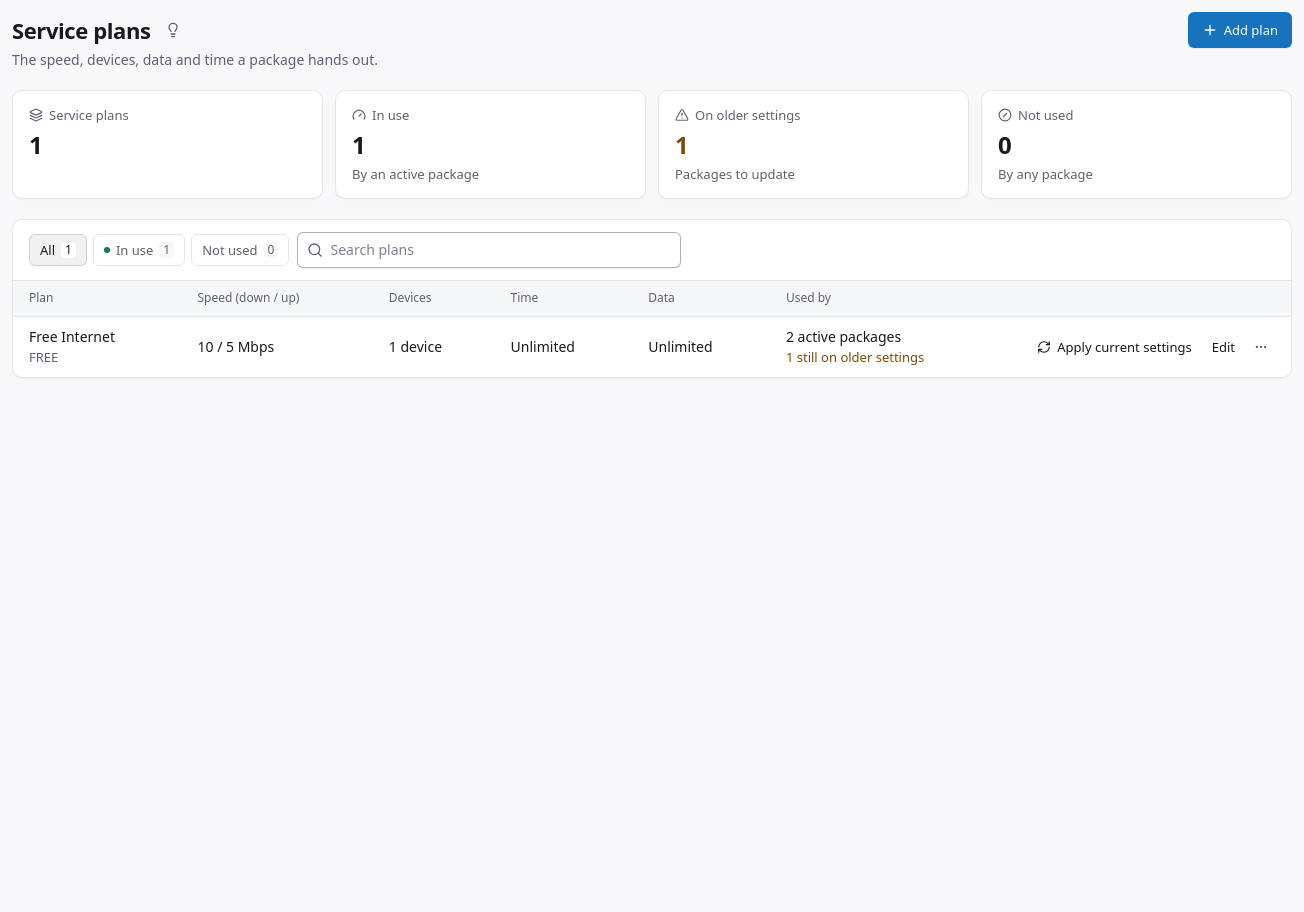
Test: ServicePlansPage — stale package pin › does not post a package whose stored price cannot be read in full, and names it
Click the button with test id "apply-current-FREE". click: (1114, 347)
box: x1=1029 y1=333 x2=1200 y2=361
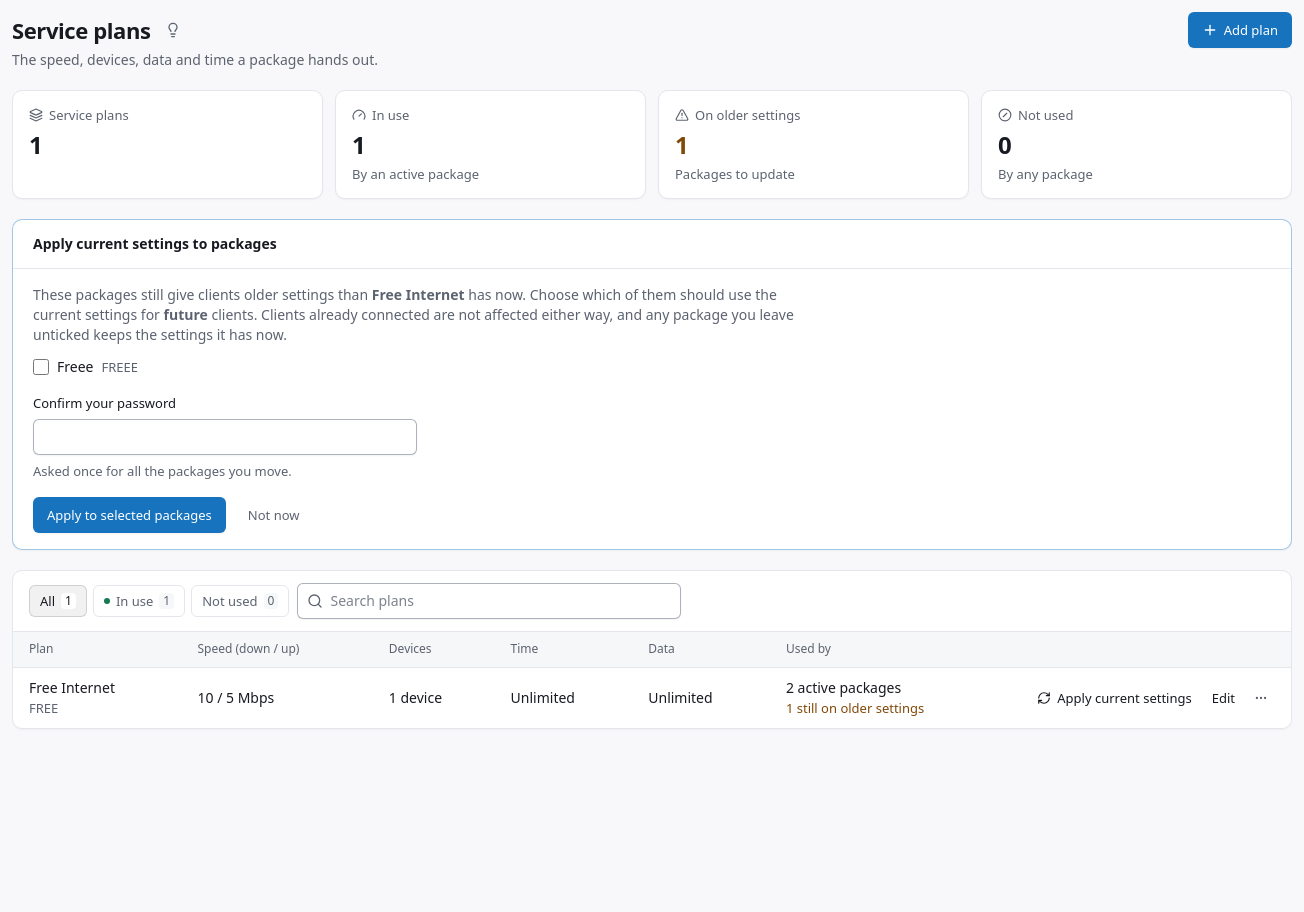
Click the checkbox named "repin-FREEE". click: (41, 367)
box: x1=33 y1=359 x2=49 y2=375
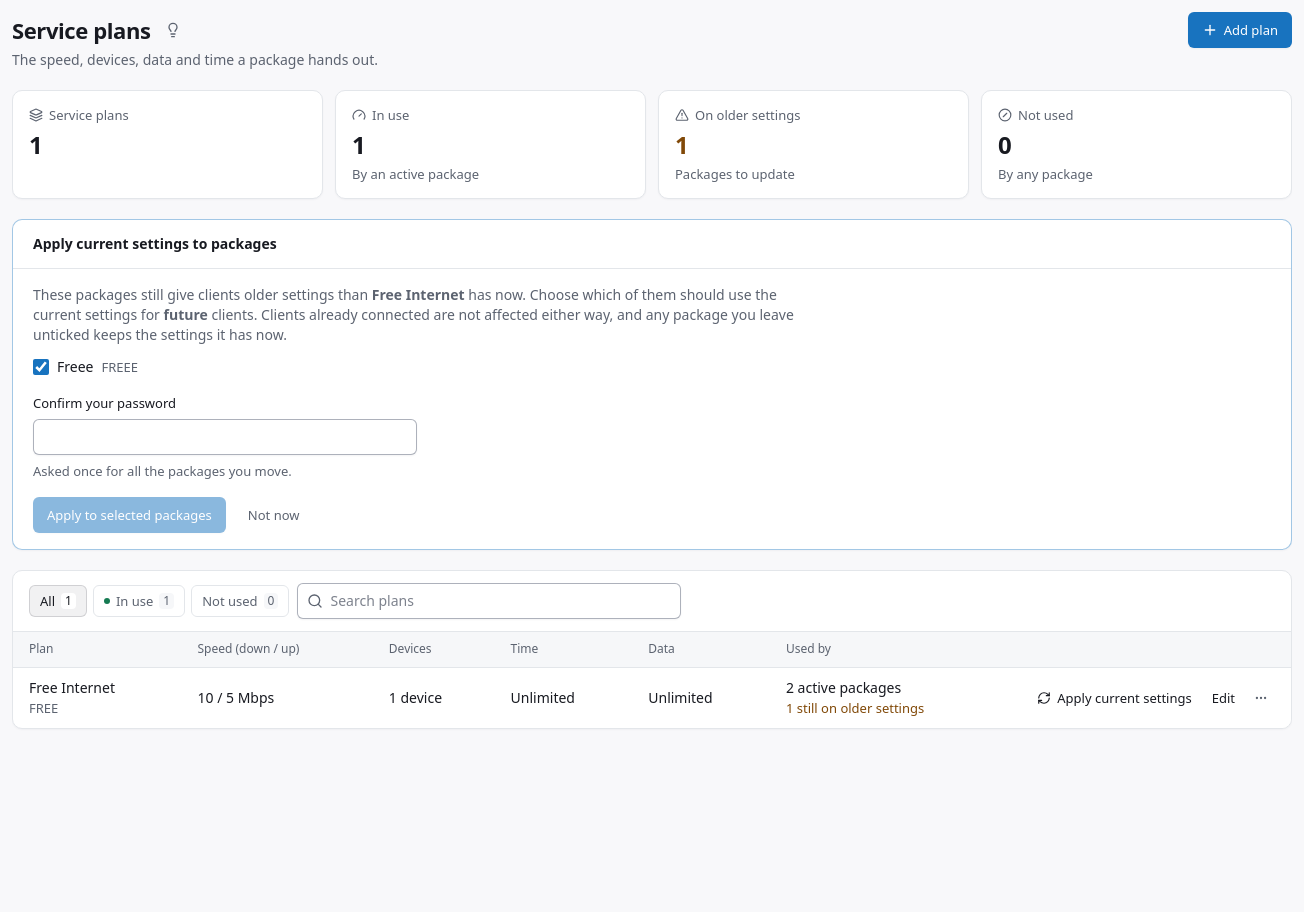
Type "pw-op" into the password field labelled "Confirm your password". click: (225, 437)
box: x1=33 y1=419 x2=417 y2=455
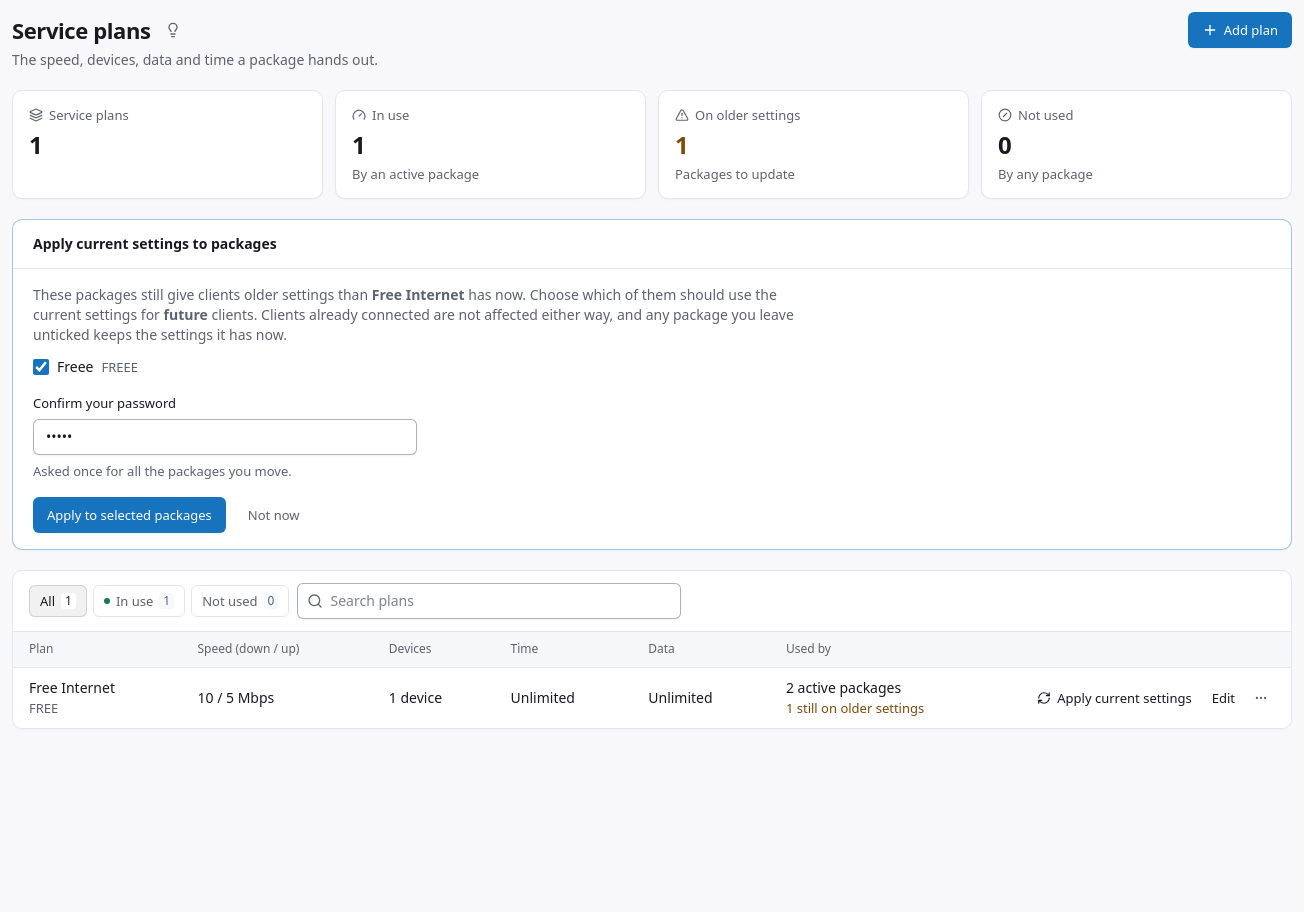
Click the button "Apply to selected packages". click: (129, 515)
box: x1=33 y1=497 x2=226 y2=533
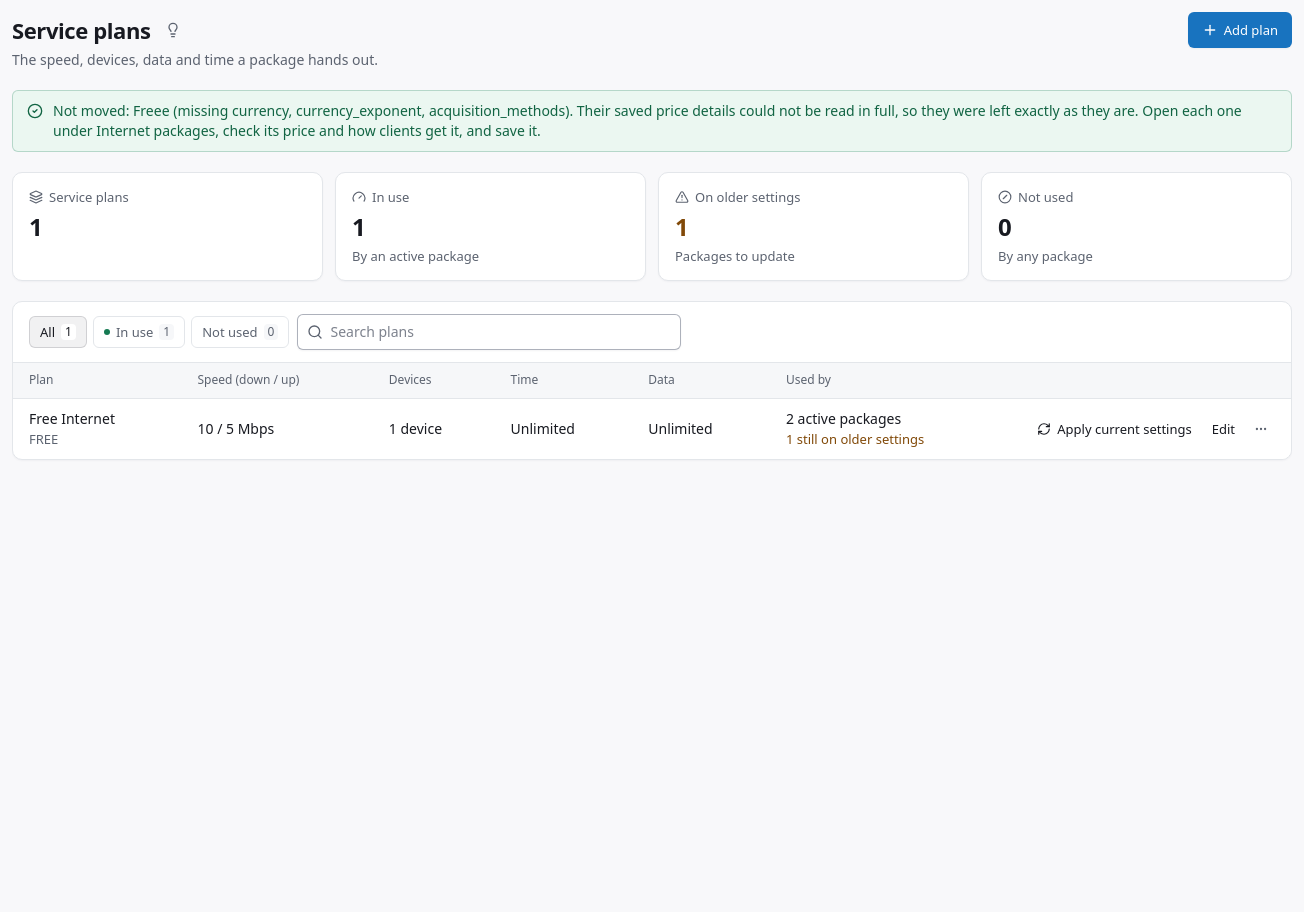
Now the message shows "Not moved: Freee", box x1=53 y1=101 x2=1242 y2=140
Now the message shows "currency", box x1=53 y1=101 x2=1242 y2=140
Now the message shows "acquisition_methods", box x1=53 y1=101 x2=1242 y2=140
